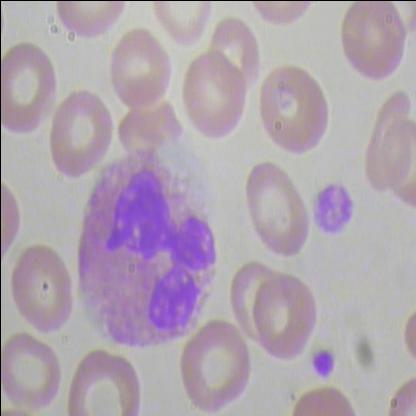Platelets: (308, 178, 354, 239), (308, 344, 338, 381)
RBC: (236, 160, 314, 264), (174, 314, 252, 414), (6, 232, 76, 338), (254, 62, 330, 153), (328, 1, 404, 86), (110, 22, 174, 122), (252, 273, 318, 364), (48, 88, 113, 180), (180, 54, 246, 144), (63, 350, 148, 416), (1, 35, 56, 137), (1, 329, 65, 415), (50, 1, 127, 49), (147, 1, 209, 49)
WBC: (67, 154, 227, 360)
